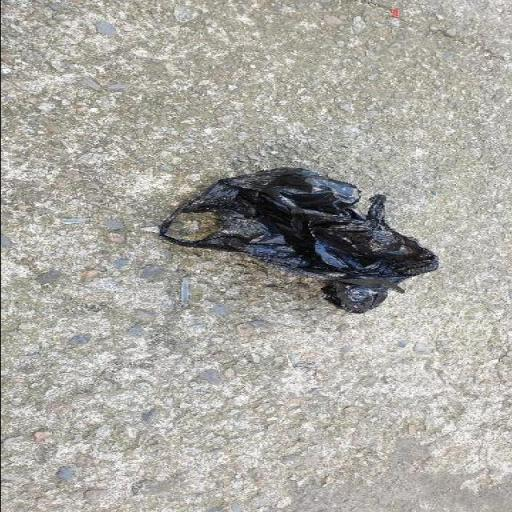plastic-bag: (165, 166, 441, 316)
